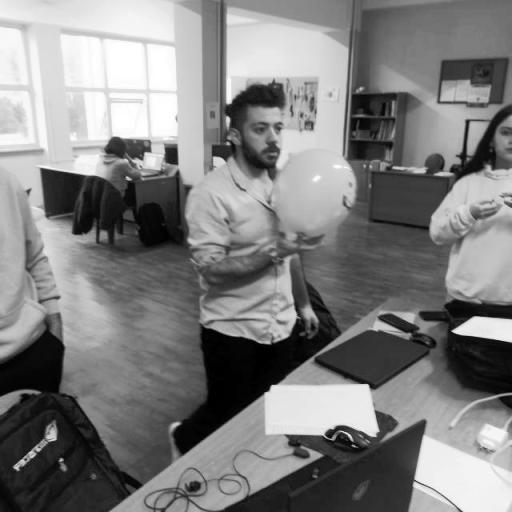balloon: (273, 148, 354, 244)
